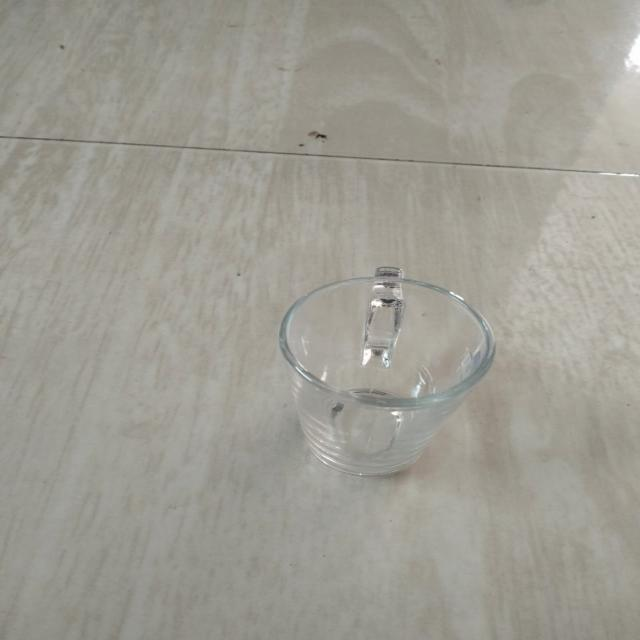glass-VX4N: (272, 260, 498, 473)
